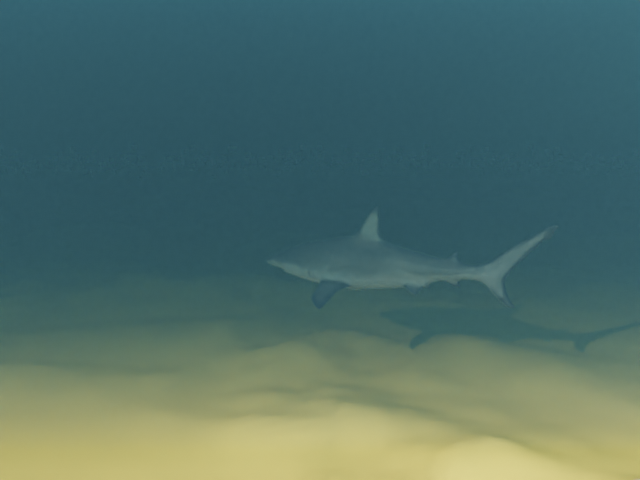Carribean Shark.001: (266, 206, 558, 309)
